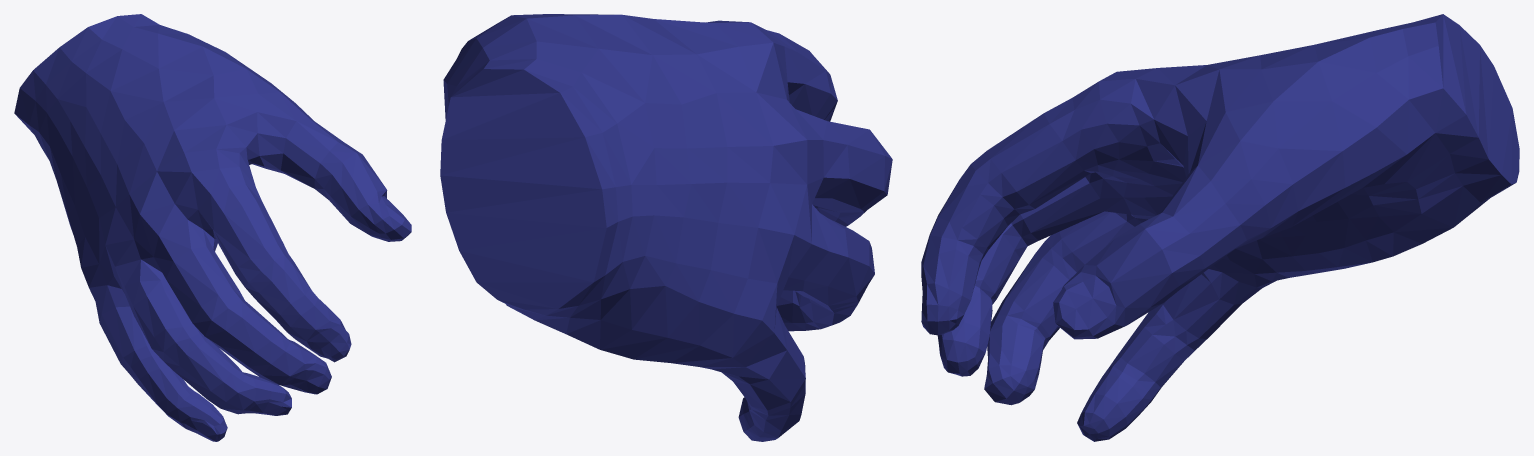
3 renders of one model, left to right at view 1: azimuth 30°, elevation 25°; view 2: azimuth 150°, elevation 25°; view 3: azimuth 270°, elevation 25°, orthographic. The views are drawn at different scales.
Bounding box in the file's own units: 0.1095 × 0.1323 × 0.1639.
